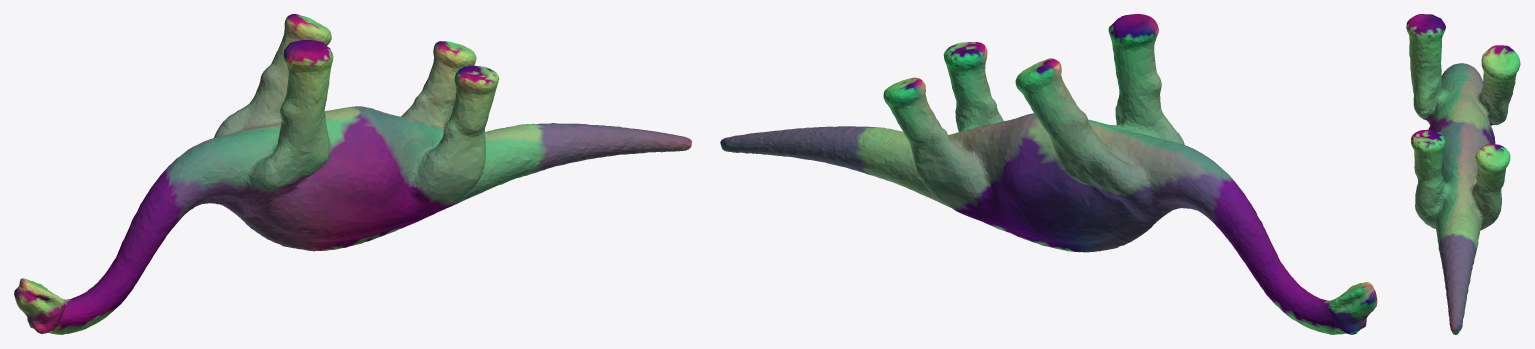
File: dinosaur-8.off.obj
The picture shows the model from 3 angles, left to right: view 1: azimuth 30°, elevation 25°; view 2: azimuth 150°, elevation 25°; view 3: azimuth 270°, elevation 25°; orthographic projection. The views are drawn at different scales.
Bounding box in the file's own units: 1.72 × 0.6149 × 0.3294.
